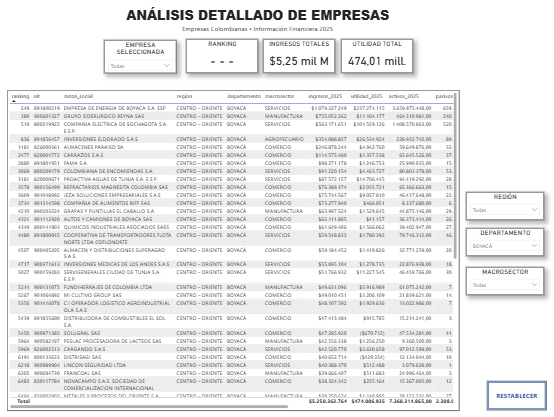

Layout of this report page (visuals, bound fields, positions):
{"tool":"powerbi","page":{"name":"Análisis detallado Empresas","canvas":[1400,1100],"ordinal":4},"visuals":[{"type":"slicer","title":"EMPRESA SELECCIONADA","fields":{"Values":["vw_top_empresas.razon_social"]},"box":[265,98.8,181.2,82.5],"z":0},{"type":"tableEx","title":"ACTIVOS POR MACROSECTOR","fields":{"Values":["vw_top_empresas.ranking","vw_finanzas_empresa.nit","vw_top_empresas.razon_social","vw_top_empresas.region","vw_finanzas_empresa.departamento","vw_finanzas_empresa.macrosector","Sum(vw_finanzas_empresa.ingresos_2025)","Sum(vw_finanzas_empresa.utilidad_2025)","Sum(vw_finanzas_empresa.activos_2025)","Sum(vw_finanzas_empresa.pasivos_2025)","Sum(vw_finanzas_empresa.patrimonio_2025)","vw_finanzas_empresa.ROA promedio"]},"box":[22.4,224.5,1130.6,802],"z":3000},{"type":"slicer","title":"REGIÓN","fields":{"Values":["vw_finanzas_empresa.region"]},"box":[1169.2,480.5,195.1,70.1],"z":4000},{"type":"slicer","title":"DEPARTAMENTO","fields":{"Values":["vw_finanzas_empresa.departamento"]},"box":[1169.2,570.4,195.1,70.1],"z":5000},{"type":"slicer","title":"MACROSECTOR","fields":{"Values":["vw_finanzas_empresa.macrosector"]},"box":[1169.2,666.5,195.1,70.1],"z":6000},{"type":"textbox","box":[0,10.7,1298.8,76.2],"z":7000},{"type":"actionButton","title":"LIMPIAR FILTROS","box":[1223.6,952.7,149.1,72.7],"z":8000},{"type":"card","title":"RANKING","fields":{"Values":["vw_top_empresas.Ranking Empresa"]},"box":[468.8,96.2,180,85],"z":9000},{"type":"card","title":"INGRESOS TOTALES","fields":{"Values":["Sum(vw_top_empresas.ingresos_2025)"]},"box":[662.5,96.2,180,85],"z":10000},{"type":"card","title":"UTILIDAD TOTAL","fields":{"Values":["Sum(vw_top_empresas.utilidad_2025)"]},"box":[856.2,96.2,180,85],"z":11000}]}

Visuals, with their boxes on the page's 1400x1100 design canvas (x1, y1, x2, y2). These are canvas units, not pixel positions in the 554x417 screenshot, which may show the page scaled, cropped or inside an application window:
"EMPRESA SELECCIONADA" slicer: <bbox>265, 99, 446, 181</bbox>
"ACTIVOS POR MACROSECTOR" tableEx: <bbox>22, 224, 1153, 1026</bbox>
"REGIÓN" slicer: <bbox>1169, 480, 1364, 551</bbox>
"DEPARTAMENTO" slicer: <bbox>1169, 570, 1364, 640</bbox>
"MACROSECTOR" slicer: <bbox>1169, 666, 1364, 737</bbox>
textbox: <bbox>0, 11, 1299, 87</bbox>
"LIMPIAR FILTROS" actionButton: <bbox>1224, 953, 1373, 1025</bbox>
"RANKING" card: <bbox>469, 96, 649, 181</bbox>
"INGRESOS TOTALES" card: <bbox>662, 96, 842, 181</bbox>
"UTILIDAD TOTAL" card: <bbox>856, 96, 1036, 181</bbox>
